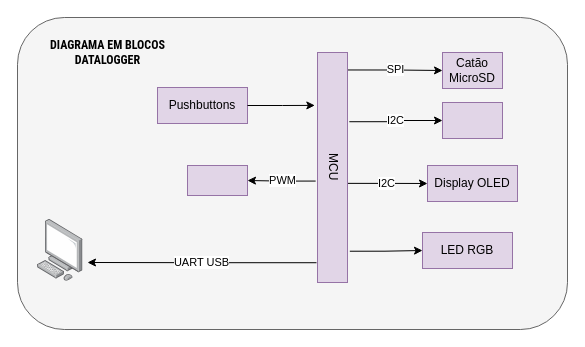
Some shapes in this 585 by 347 pixel diagram are drawn without their labels. The shapes that lost their labels are listed below. From the top down, each one's centre as x and y in pixels, then its label:
At [472,120]: "MPU 6050".
At [217,180]: "Buzzer".
